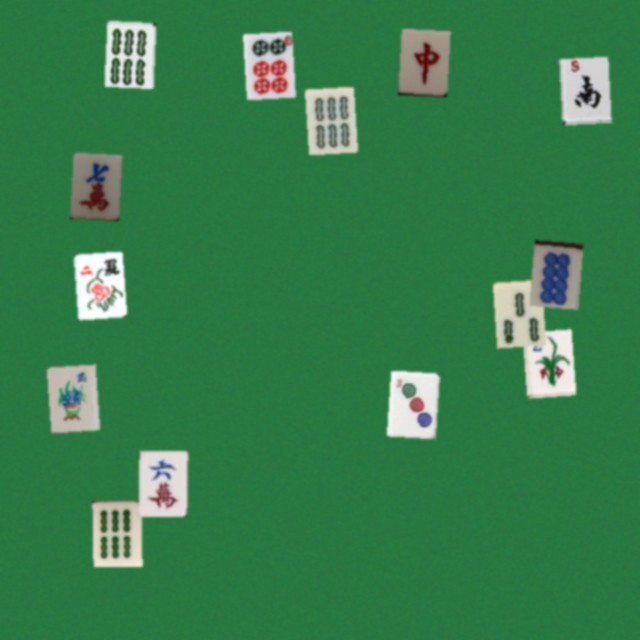tile: (304, 86, 353, 152), (522, 329, 571, 395), (492, 279, 541, 345), (70, 152, 119, 218), (73, 251, 122, 317), (46, 364, 95, 430), (92, 500, 141, 566), (529, 240, 578, 306), (243, 31, 292, 97), (398, 28, 447, 94), (138, 450, 187, 516), (386, 370, 435, 436), (104, 20, 153, 86), (559, 56, 608, 122)
